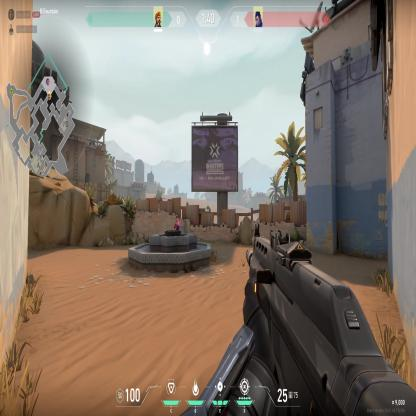enemy: (173, 215, 180, 230)
